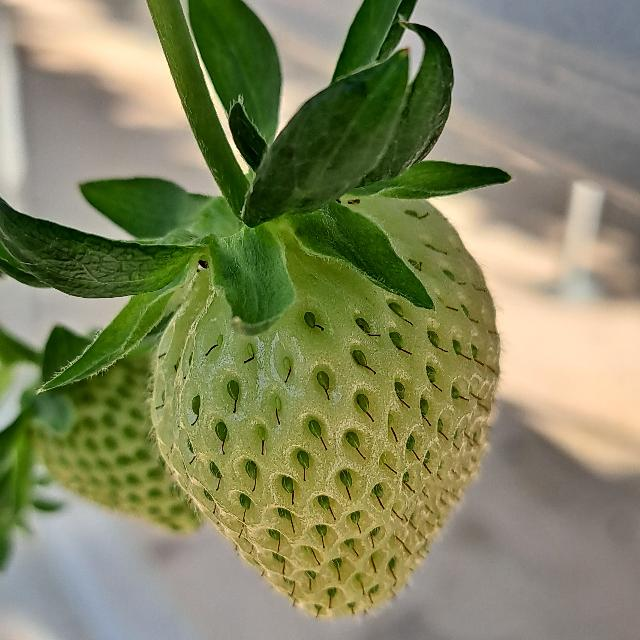Health_25: (151, 196, 501, 618)
